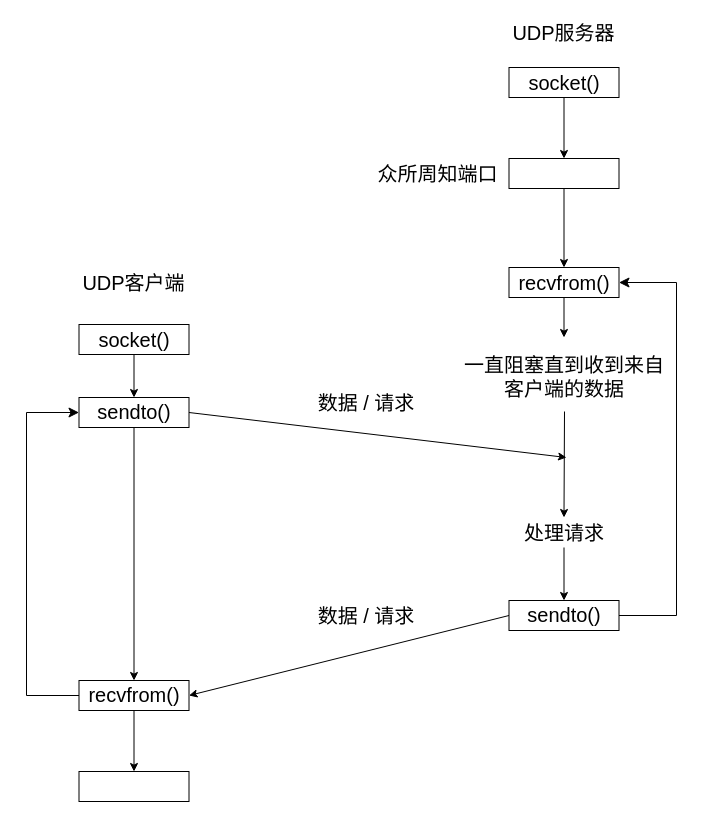
The diagram is 704 pixels wide and 819 high, and some of its shapes have lost their labels. Here are the shapes that lost their labels. From the top down, the centre of each, then its label:
At pixel 563 173: "bind()".
At pixel 133 786: "close()".
